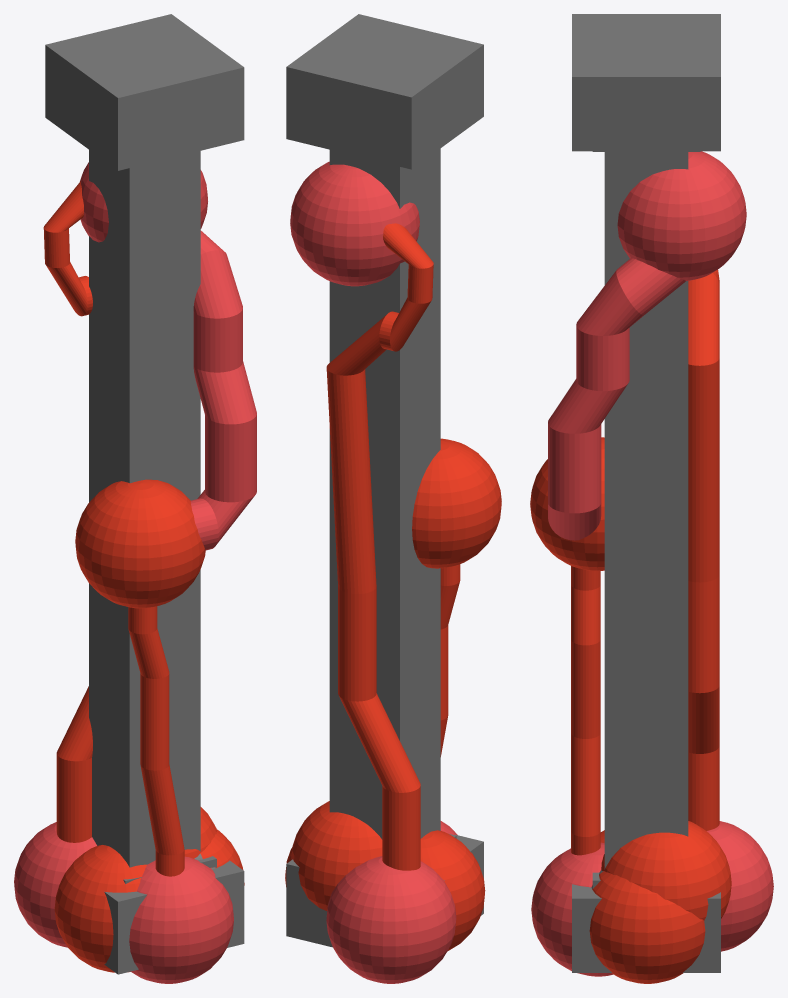
File: fleshPillarObst.fbx
3 renders of one model, left to right at view 1: azimuth 30°, elevation 25°; view 2: azimuth 150°, elevation 25°; view 3: azimuth 270°, elevation 25°, orthographic. The views are drawn at different scales.
Visible parts, largest first — view 1: FleshPillar; view 2: FleshPillar; view 3: FleshPillar.
Boxes of the visible parts, <box> form: FleshPillar: <box>14,14,256,983</box>; FleshPillar: <box>285,14,501,983</box>; FleshPillar: <box>530,14,773,983</box>.
Size of the model in its own units: 324 by 1520 by 363.
